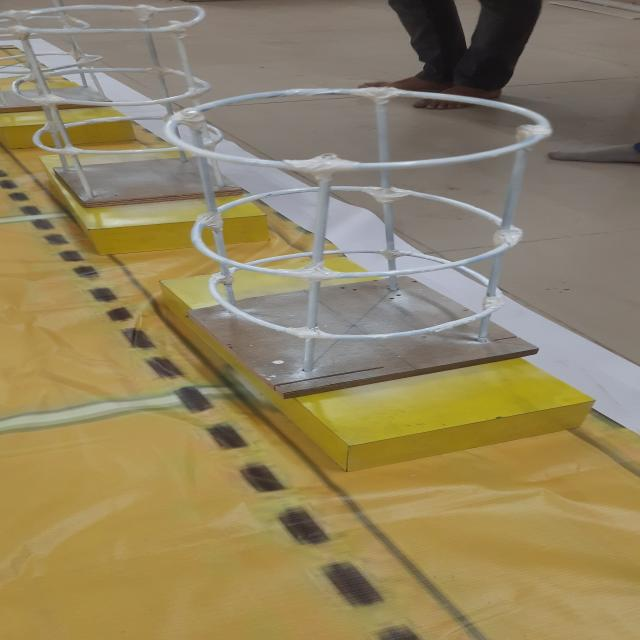silo: (152, 79, 579, 402), (0, 0, 253, 212)
